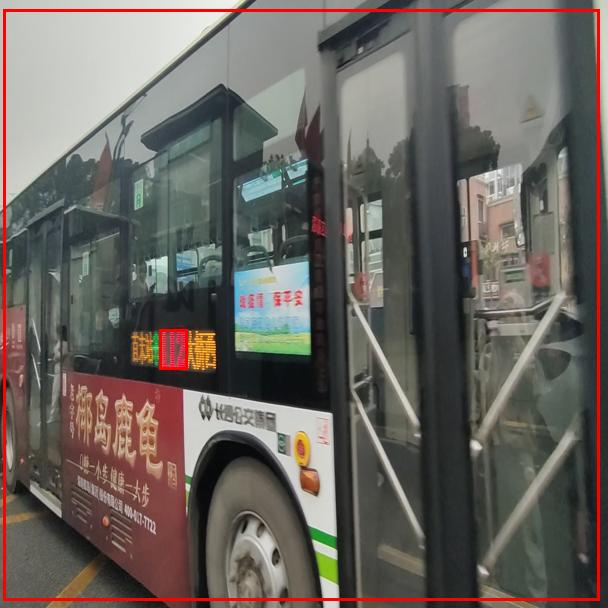bus: (3, 9, 599, 600)
screen: (159, 329, 187, 369)
